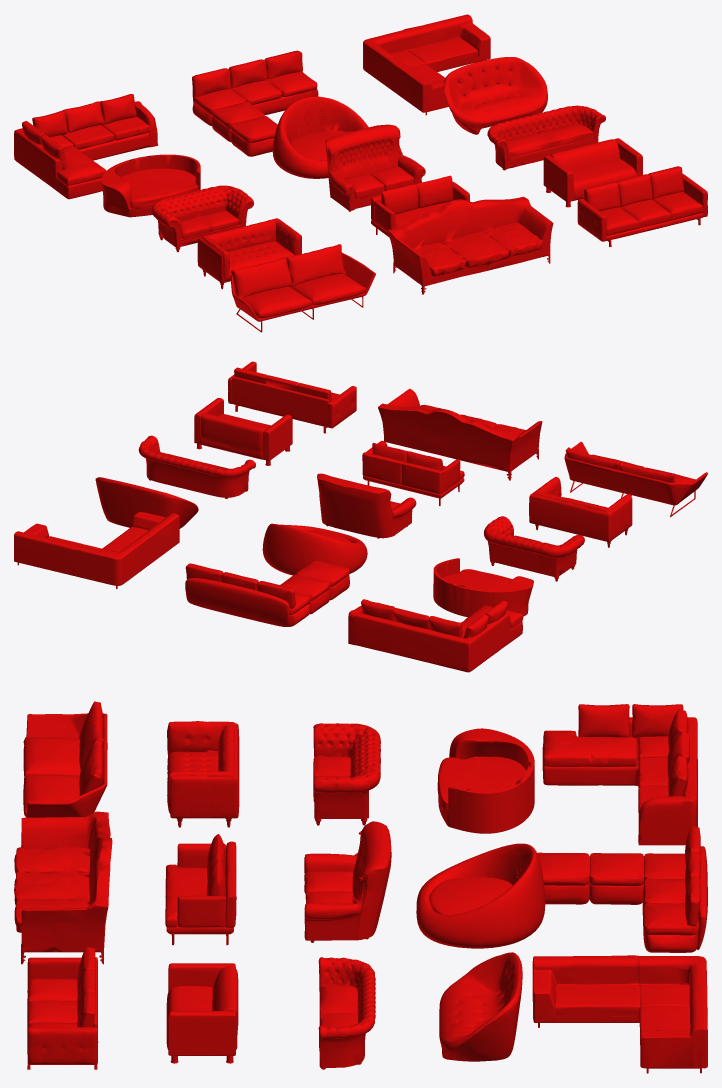
The model's file is MT_sofas_grp.fbx.
3 views of the same model, one above another, from view 1: azimuth 30°, elevation 25°; view 2: azimuth 150°, elevation 25°; view 3: azimuth 270°, elevation 25° (orthographic). The views are drawn at different scales.
Parts seen in each view (by area): view 1: MT_sofa_2, MT_sofa_15, MT_sofa_14, MT_sofa_13, MT_sofa_3, MT_sofa_1, MT_sofa_10, MT_sofa_8, MT_sofa_11, MT_sofa_7, MT_sofa_12, MT_sofa_9 (+3 smaller); view 2: MT_sofa_15, MT_sofa_2, MT_sofa_14, MT_sofa_13, MT_sofa_1, MT_sofa_8, MT_sofa_3, MT_sofa_6, MT_sofa_11, MT_sofa_12, MT_sofa_4, MT_sofa_5 (+3 smaller); view 3: MT_sofa_15, MT_sofa_13, MT_sofa_2, MT_sofa_14, MT_sofa_11, MT_sofa_12, MT_sofa_3, MT_sofa_8, MT_sofa_1, MT_sofa_10, MT_sofa_6, MT_sofa_4 (+3 smaller).
Boxes of the visible parts, x1,y1,x2,y2 form: MT_sofa_2: (387, 196, 553, 294); MT_sofa_15: (14, 94, 158, 199); MT_sofa_14: (192, 50, 318, 156); MT_sofa_13: (363, 14, 490, 115); MT_sofa_3: (231, 244, 375, 332); MT_sofa_1: (577, 166, 707, 246); MT_sofa_10: (443, 57, 547, 134); MT_sofa_8: (325, 124, 425, 211); MT_sofa_11: (272, 96, 368, 178); MT_sofa_7: (487, 105, 605, 170); MT_sofa_12: (101, 154, 200, 217); MT_sofa_9: (151, 185, 253, 252); MT_sofa_15: (348, 599, 523, 672); MT_sofa_2: (378, 388, 542, 480); MT_sofa_14: (185, 560, 349, 626); MT_sofa_13: (14, 512, 179, 588); MT_sofa_1: (228, 361, 356, 433); MT_sofa_8: (317, 473, 416, 538); MT_sofa_3: (564, 441, 707, 517); MT_sofa_6: (529, 477, 632, 547); MT_sofa_11: (262, 523, 367, 575); MT_sofa_12: (433, 558, 533, 617); MT_sofa_4: (194, 398, 292, 465); MT_sofa_5: (362, 441, 464, 505); MT_sofa_15: (542, 704, 697, 845); MT_sofa_13: (532, 955, 707, 1073); MT_sofa_2: (14, 811, 112, 964); MT_sofa_14: (537, 826, 707, 952); MT_sofa_11: (416, 843, 545, 948); MT_sofa_12: (437, 728, 534, 833); MT_sofa_3: (23, 701, 107, 817); MT_sofa_8: (304, 821, 391, 942); MT_sofa_1: (27, 947, 98, 1069); MT_sofa_10: (439, 952, 522, 1061); MT_sofa_6: (167, 721, 239, 827); MT_sofa_4: (166, 963, 238, 1063).
Size of the model in its own units: 1082 by 125 by 996.
